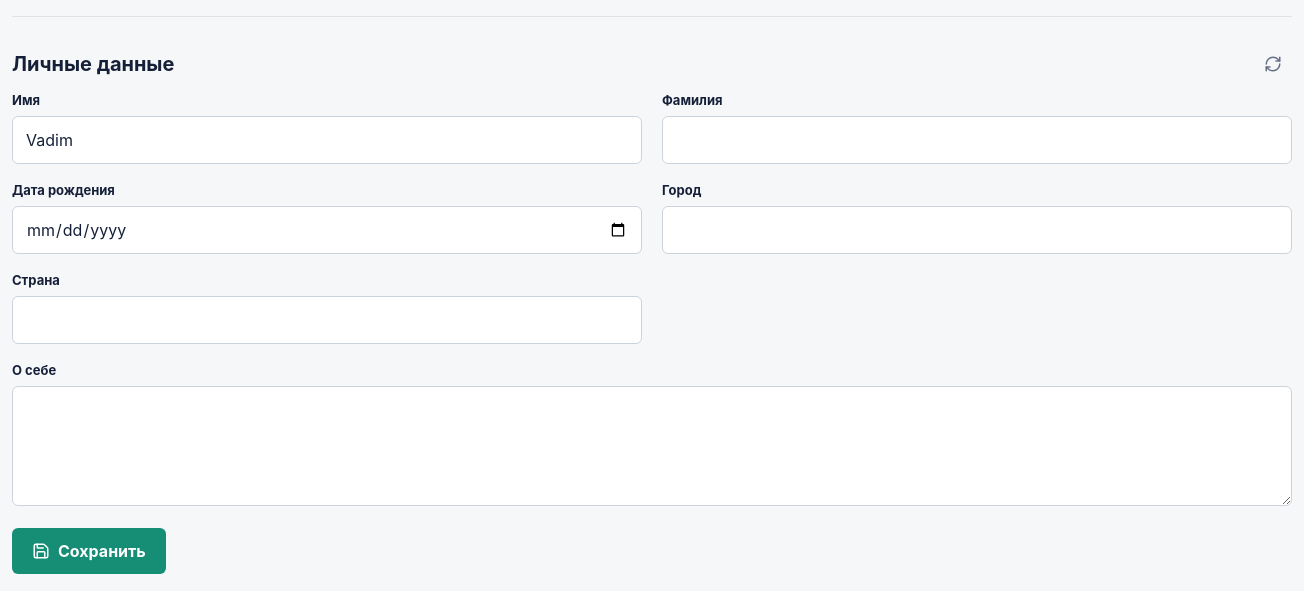
it: loads and saves editable profile
The image size is (1304, 591).
Expected: the field showing "Vadim" is shown, [12,116,642,164]
In the field labelled "Город": (977, 230) [662,206,1292,254], type "Moscow"
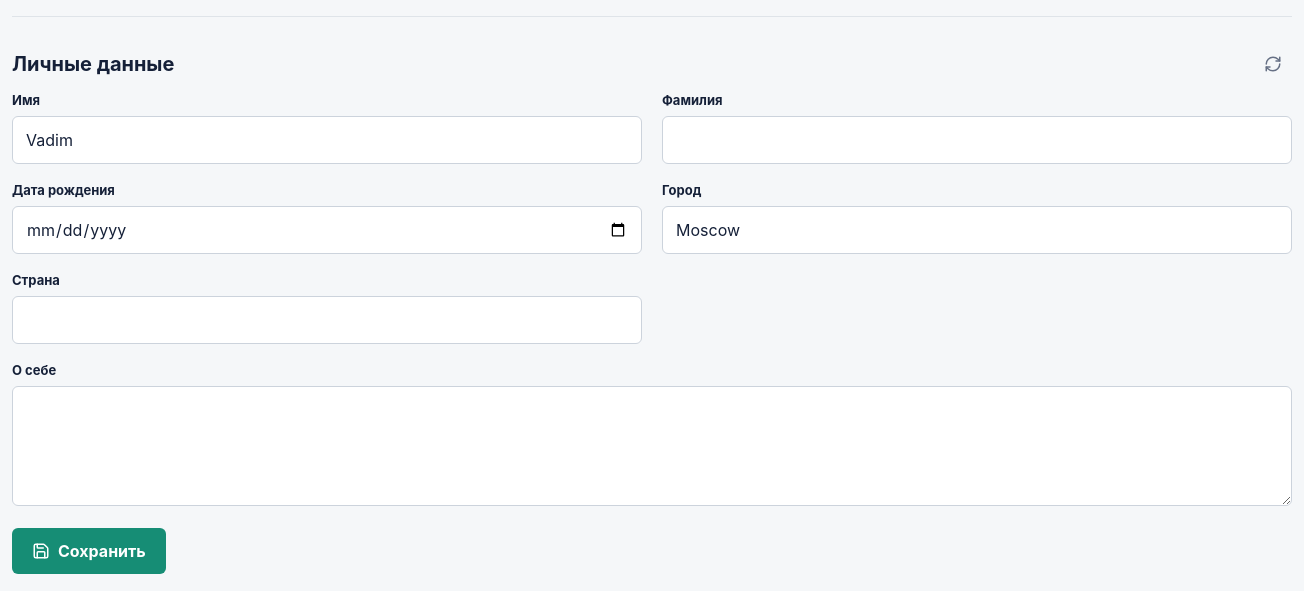
In the date field labelled "Дата рождения": (327, 230) [12,206,642,254], type "1990-05-21"
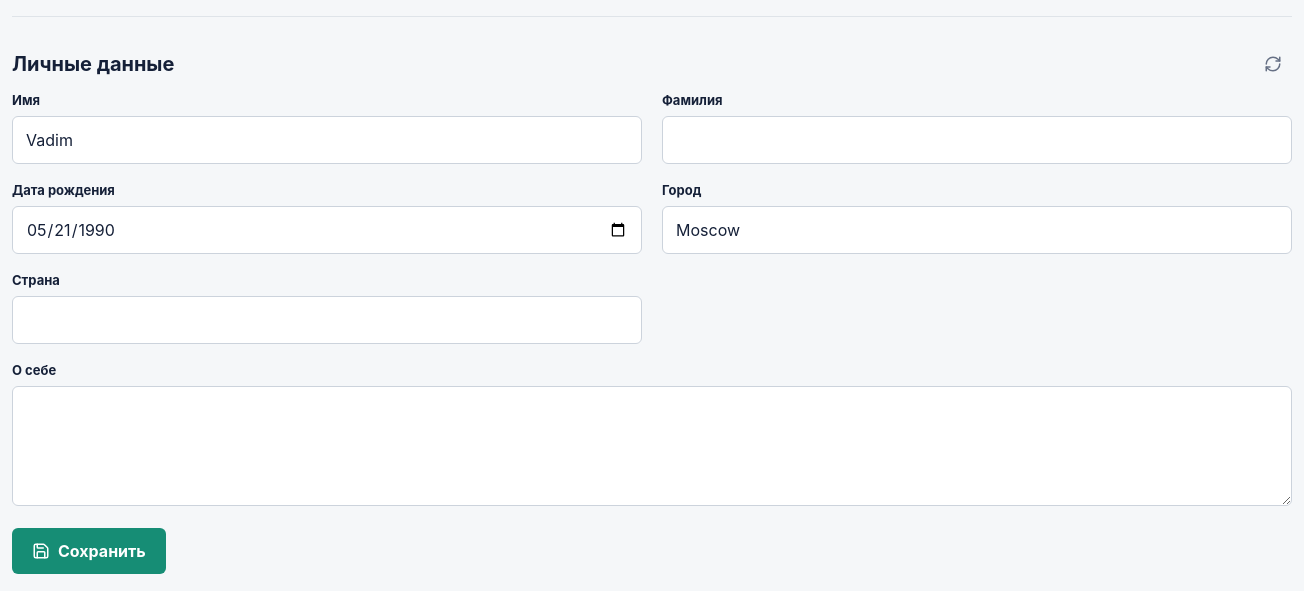
Click the button "Сохранить": (89, 551) [12,528,166,574]
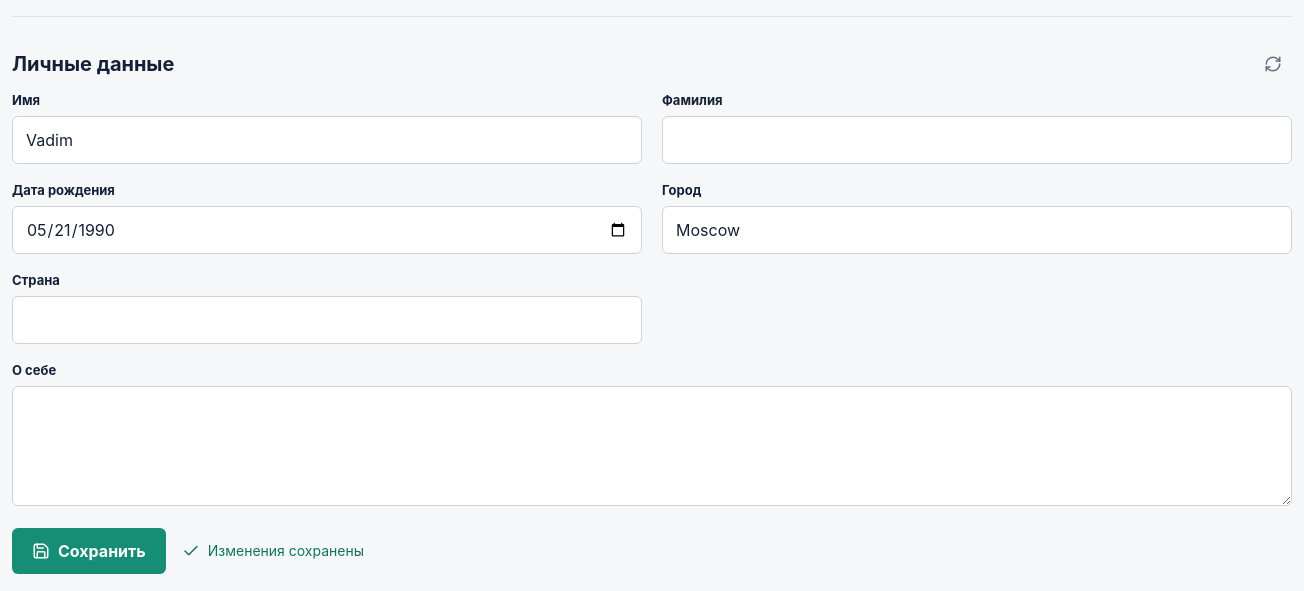
Expected: the text "Изменения сохранены" is shown, [182,540,364,562]
